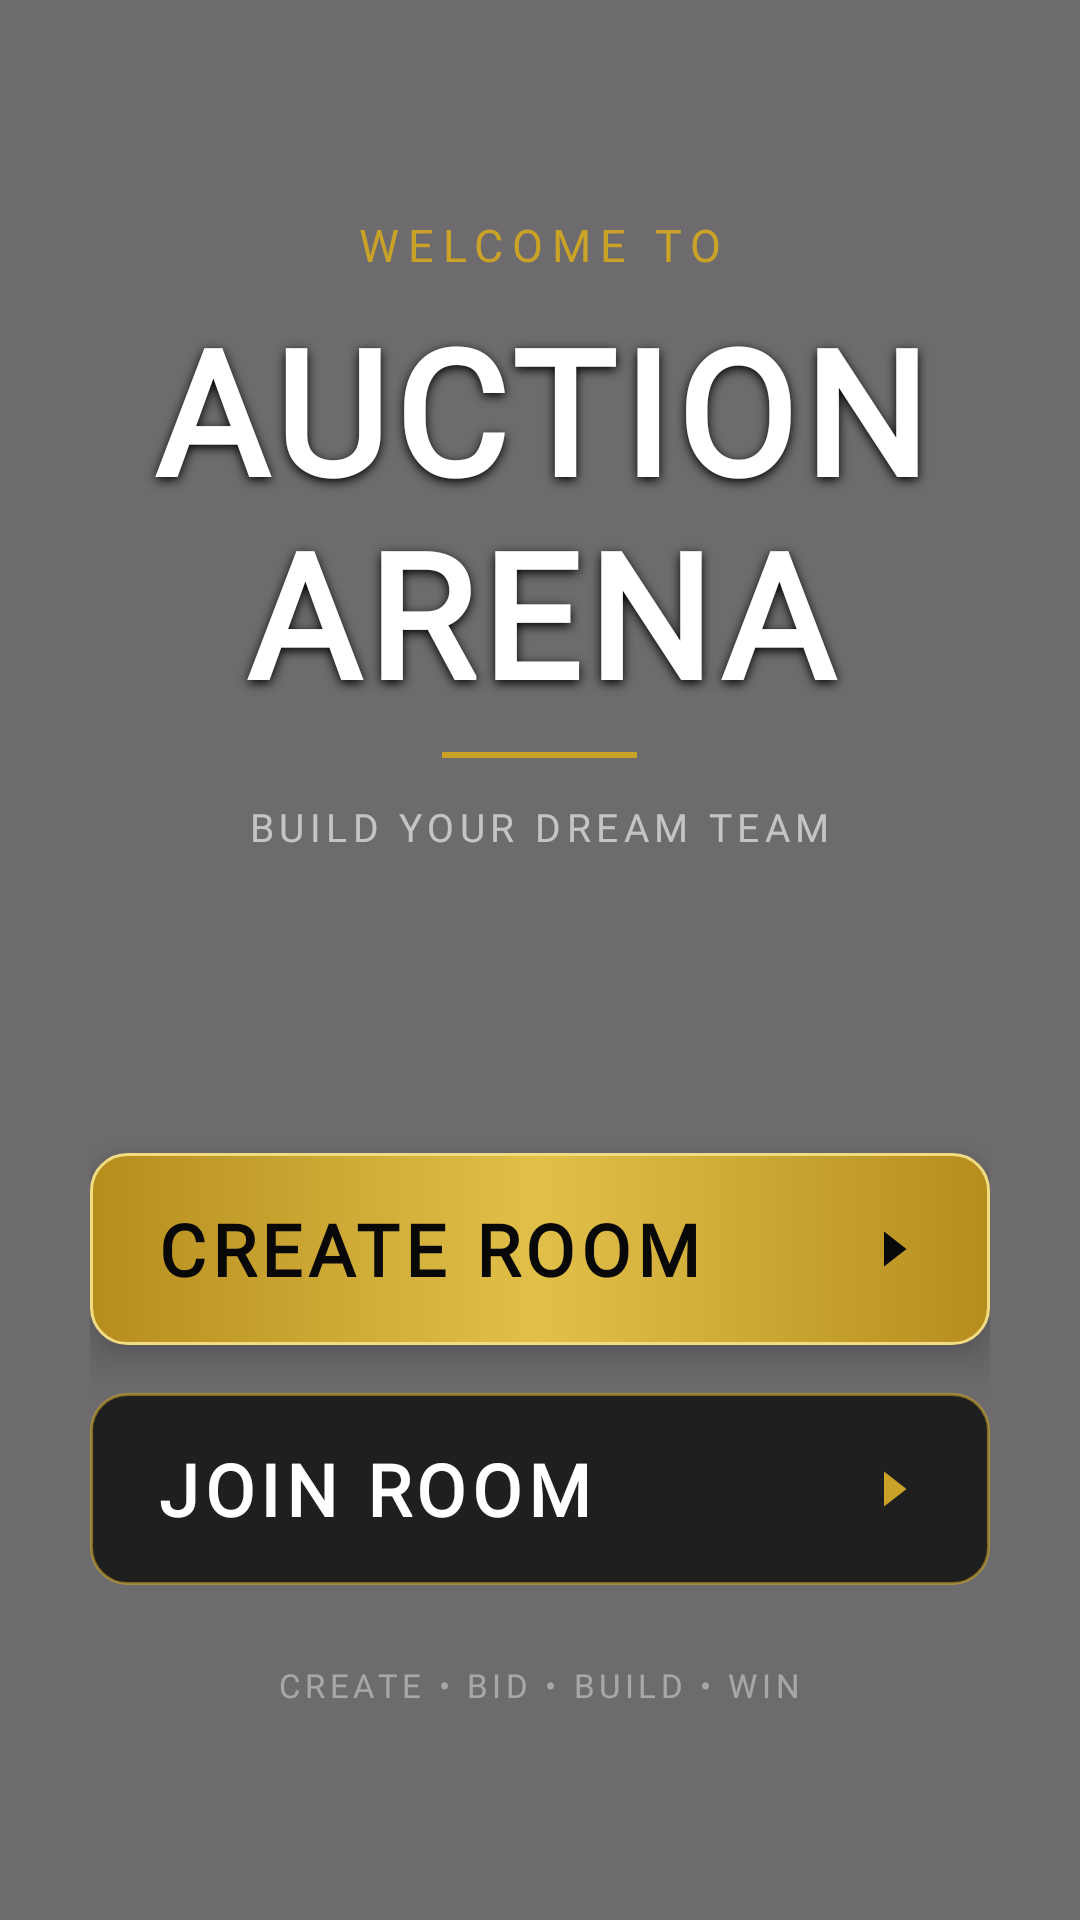

Icon click points for this 1080x1920 phone screenshot, format (x,y):
arrow: (895,1249), (895,1489)
